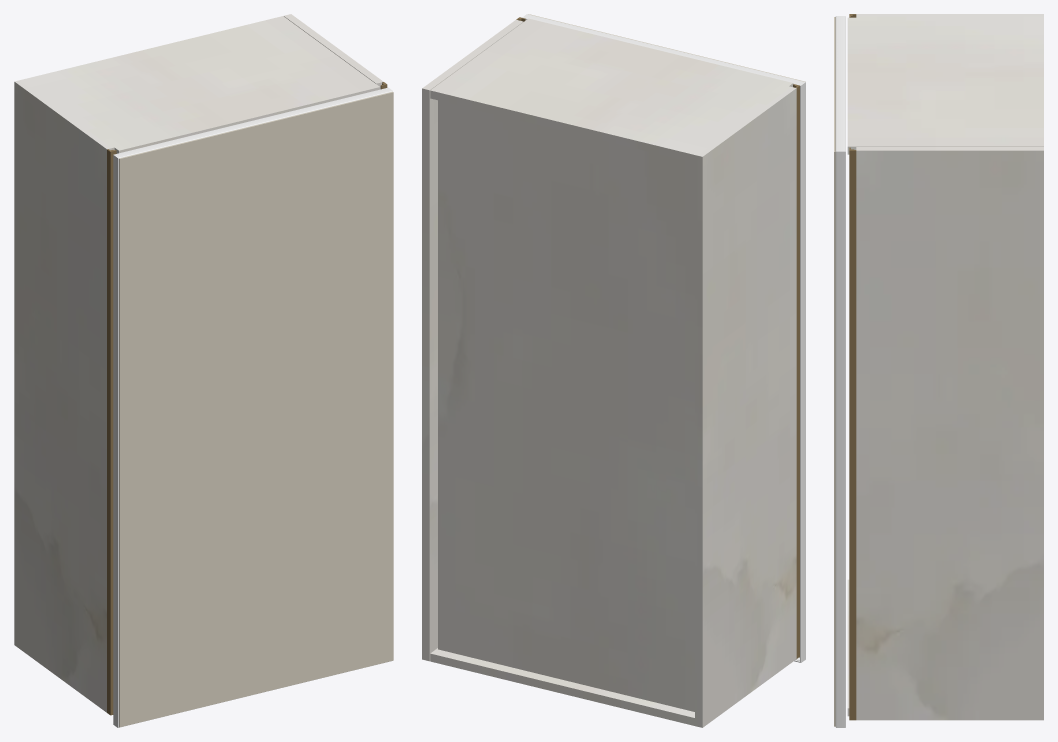
3 renders of one model, left to right at view 1: azimuth 30°, elevation 25°; view 2: azimuth 150°, elevation 25°; view 3: azimuth 270°, elevation 25°, orthographic.
Size of what is drawn, in the model's own units: 0.55 by 1.09 by 0.3569.
Materials: 7 (2 with a texture image).
